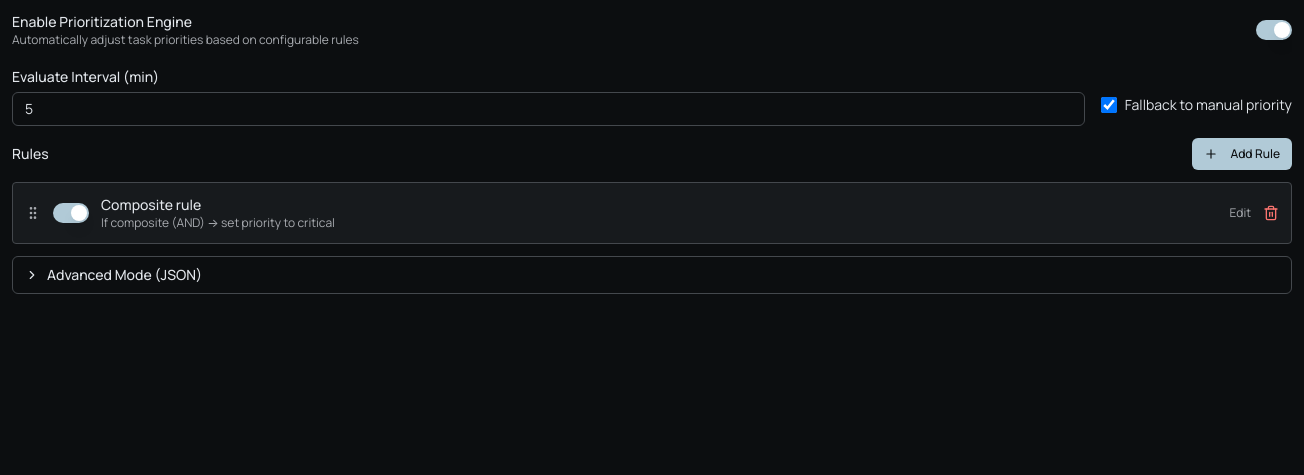
Test: PrioritizationTab › shows warning for composite conditions when expanded
Step 1. Click the button "Edit" → (1240, 213), box [1229, 205, 1251, 221]
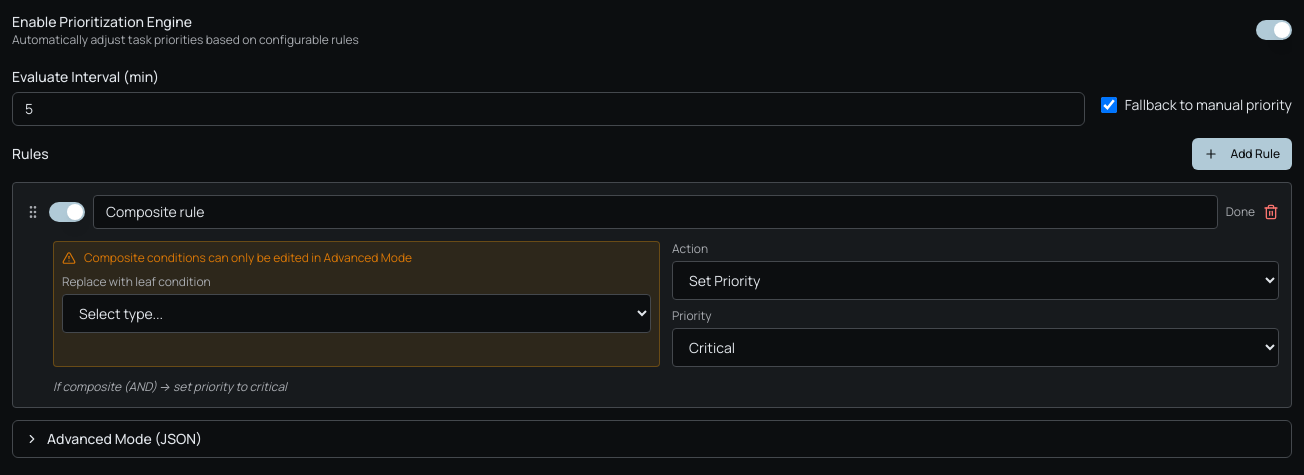
expect the text "Composite conditions can only be edited in Advanced Mode" is shown: met, box [84, 250, 412, 266]
expect the text "Replace with leaf condition" is shown: met, box [62, 273, 211, 290]
